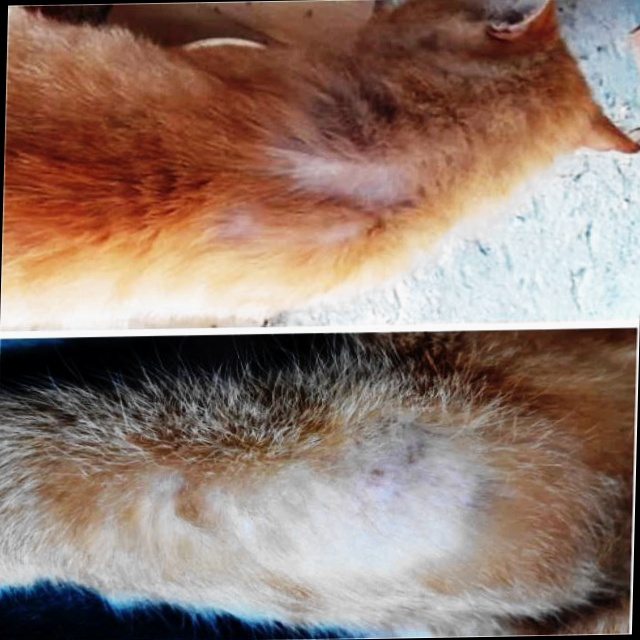hairloss: (239, 452, 465, 564), (296, 167, 405, 209), (214, 219, 354, 241)
